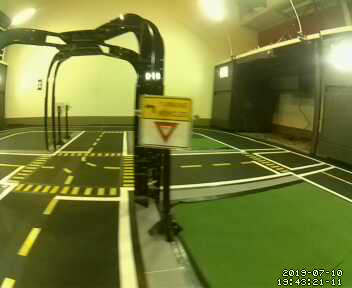Turn Yield: (138, 93, 191, 150)
